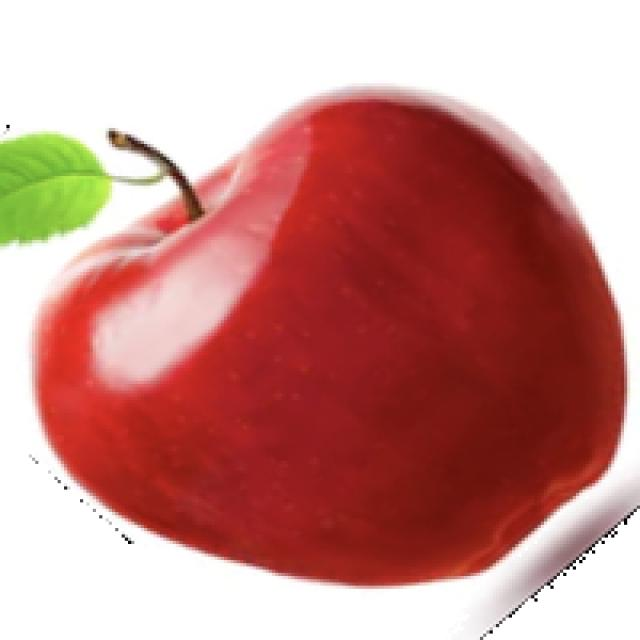apple: (0, 80, 637, 637)
